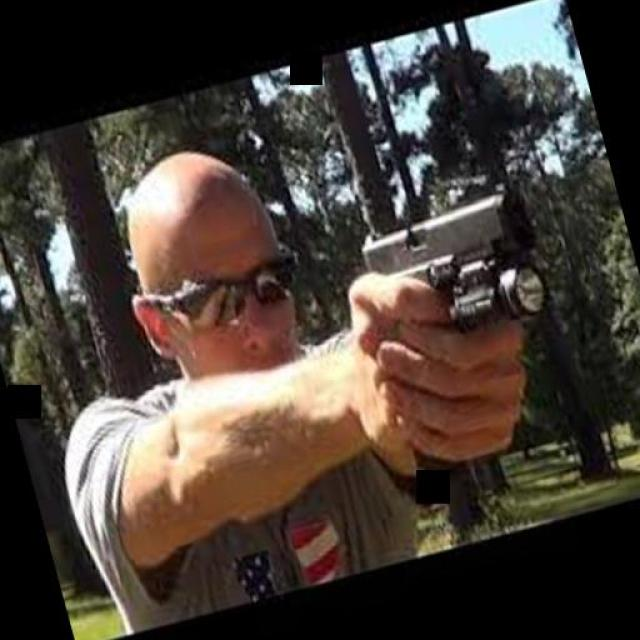gun: (348, 177, 592, 492)
